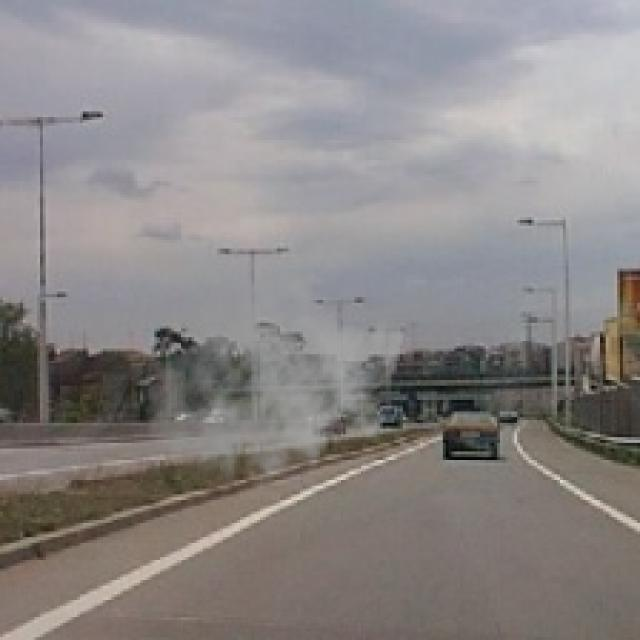Smoke: (143, 257, 406, 506)
